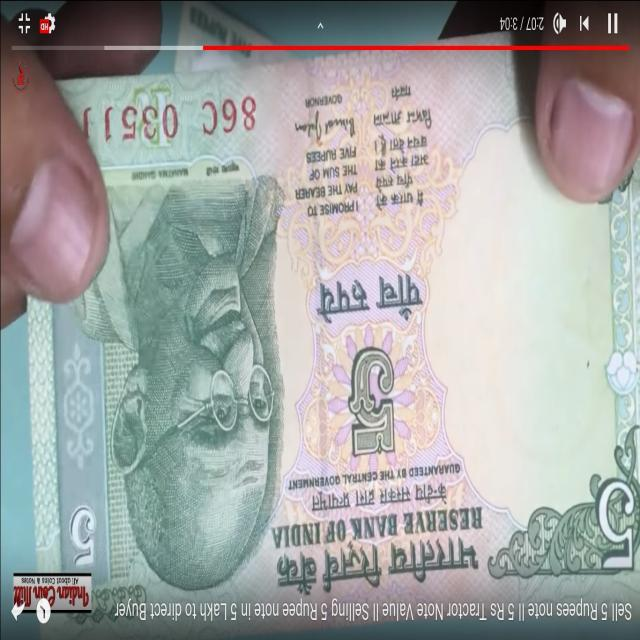5IndianRupees: (42, 85, 640, 608)
